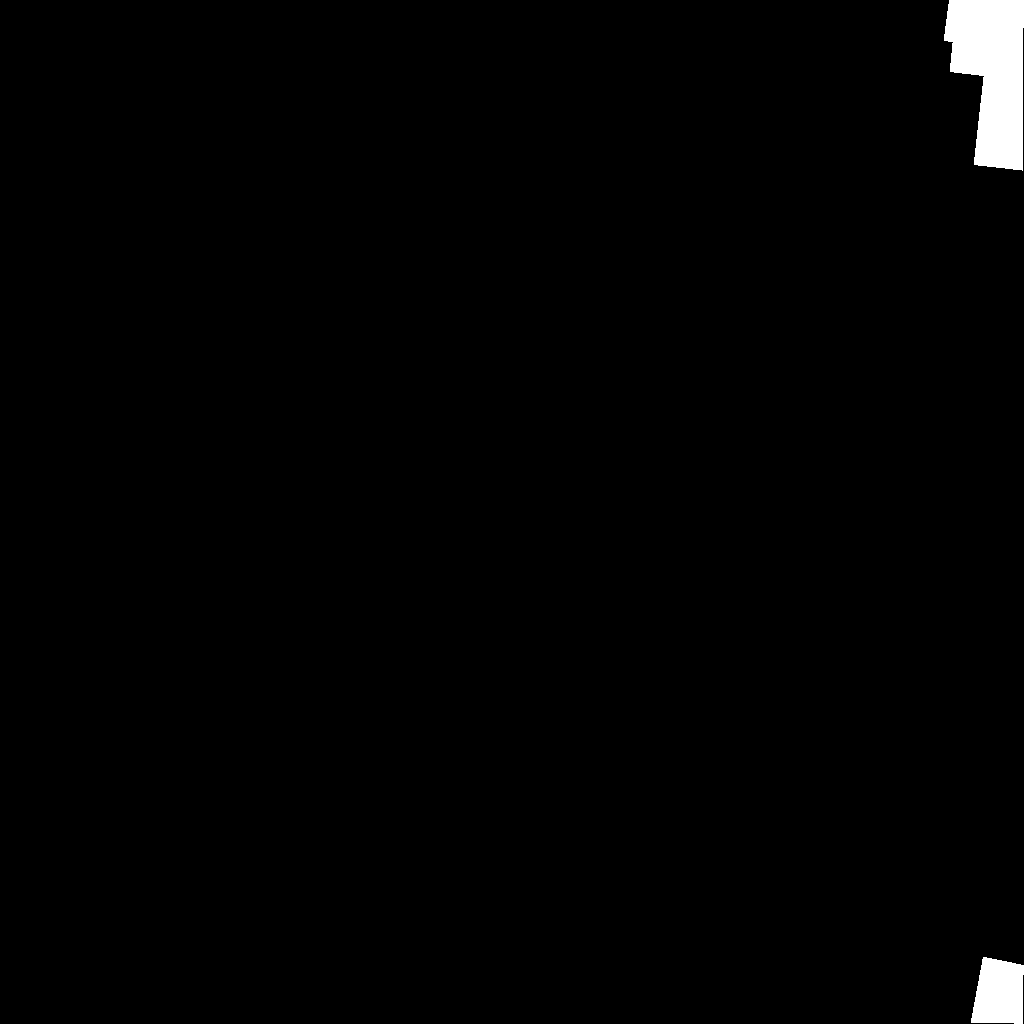building: (944, 0, 1024, 171), (971, 957, 1024, 1024)
